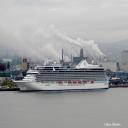cruises: (13, 59, 110, 94)
